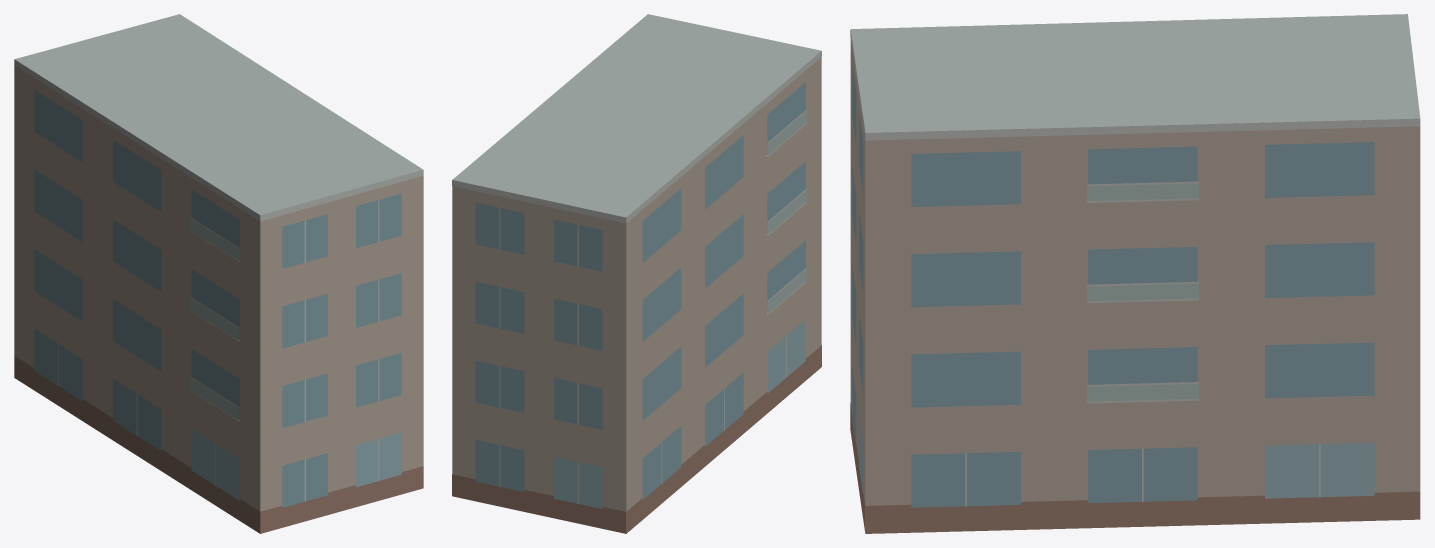
Rendered from survey-upis-32972677.glb.
The picture shows the model from 3 angles, left to right: view 1: azimuth 30°, elevation 25°; view 2: azimuth 150°, elevation 25°; view 3: azimuth 270°, elevation 25°; orthographic projection. The views are drawn at different scales.
Parts seen in each view (by area): view 1: survey-upis-32972677.tmp; view 2: survey-upis-32972677.tmp; view 3: survey-upis-32972677.tmp.
Boxes of the visible parts, box(x1,y1,x2,y2) form: survey-upis-32972677.tmp: box(14, 14, 423, 533); survey-upis-32972677.tmp: box(452, 14, 821, 533); survey-upis-32972677.tmp: box(850, 14, 1420, 533).
Bounding box in the file's own units: 8.15 × 12.8 × 16.5.
